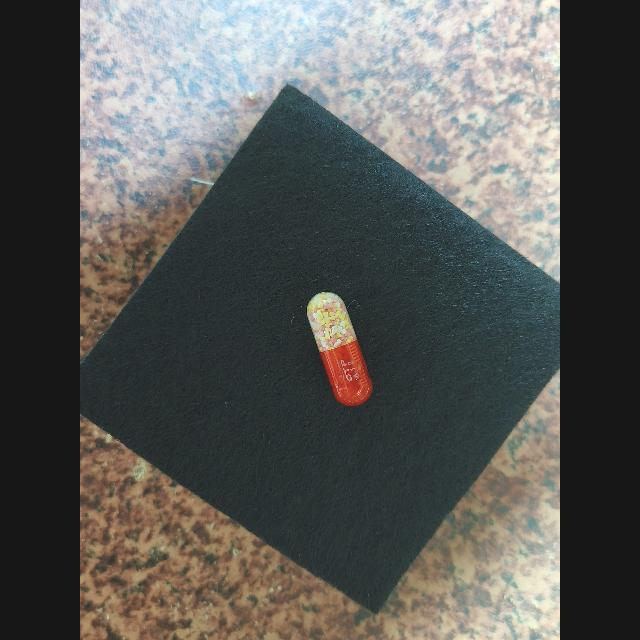Intact Capsule: (307, 292, 373, 406)
